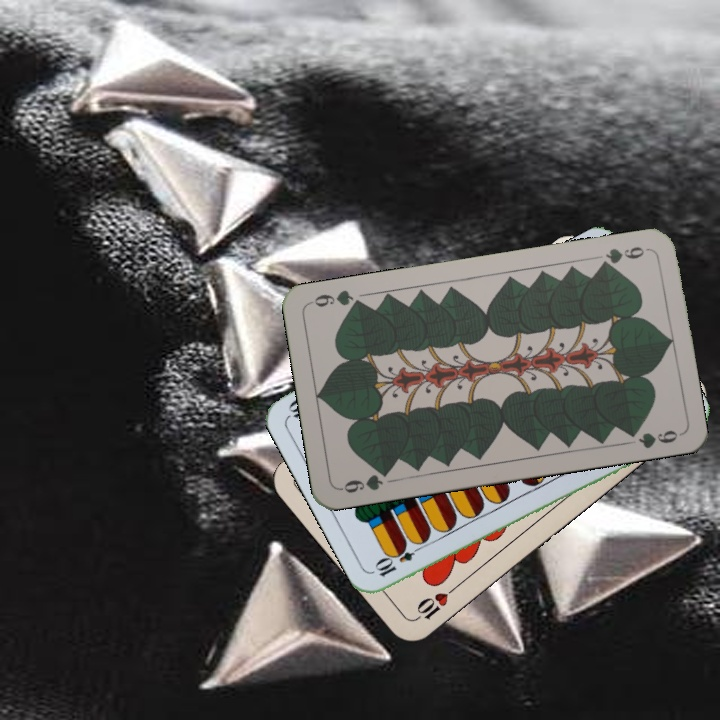E10: (371, 539, 427, 580)
G9: (336, 465, 393, 496), (595, 242, 652, 271)
H10: (411, 581, 461, 623)
